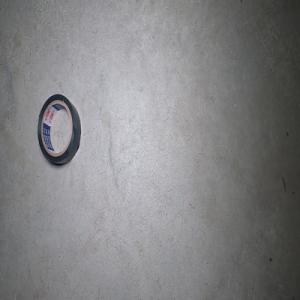Tape: (37, 94, 81, 165)
